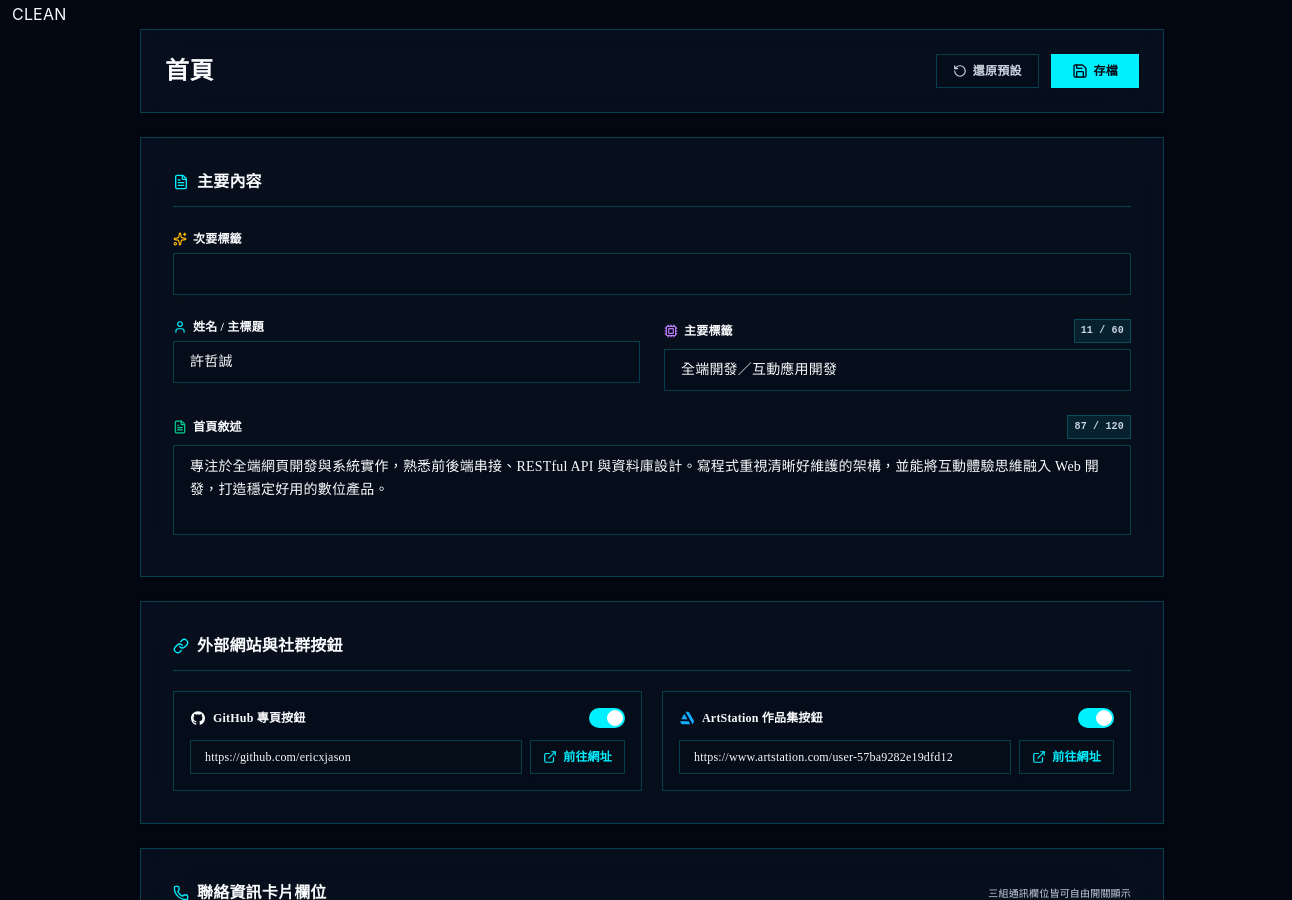
Test case: CMS 編輯器按鈕流程與 Firebase 存檔串接單元測試 › 修改欄位內容應觸發 DIRTY 髒污狀態
In the field below "次要標籤": (652, 274) 173,253 -> 1131,295, type "0912-345-678"
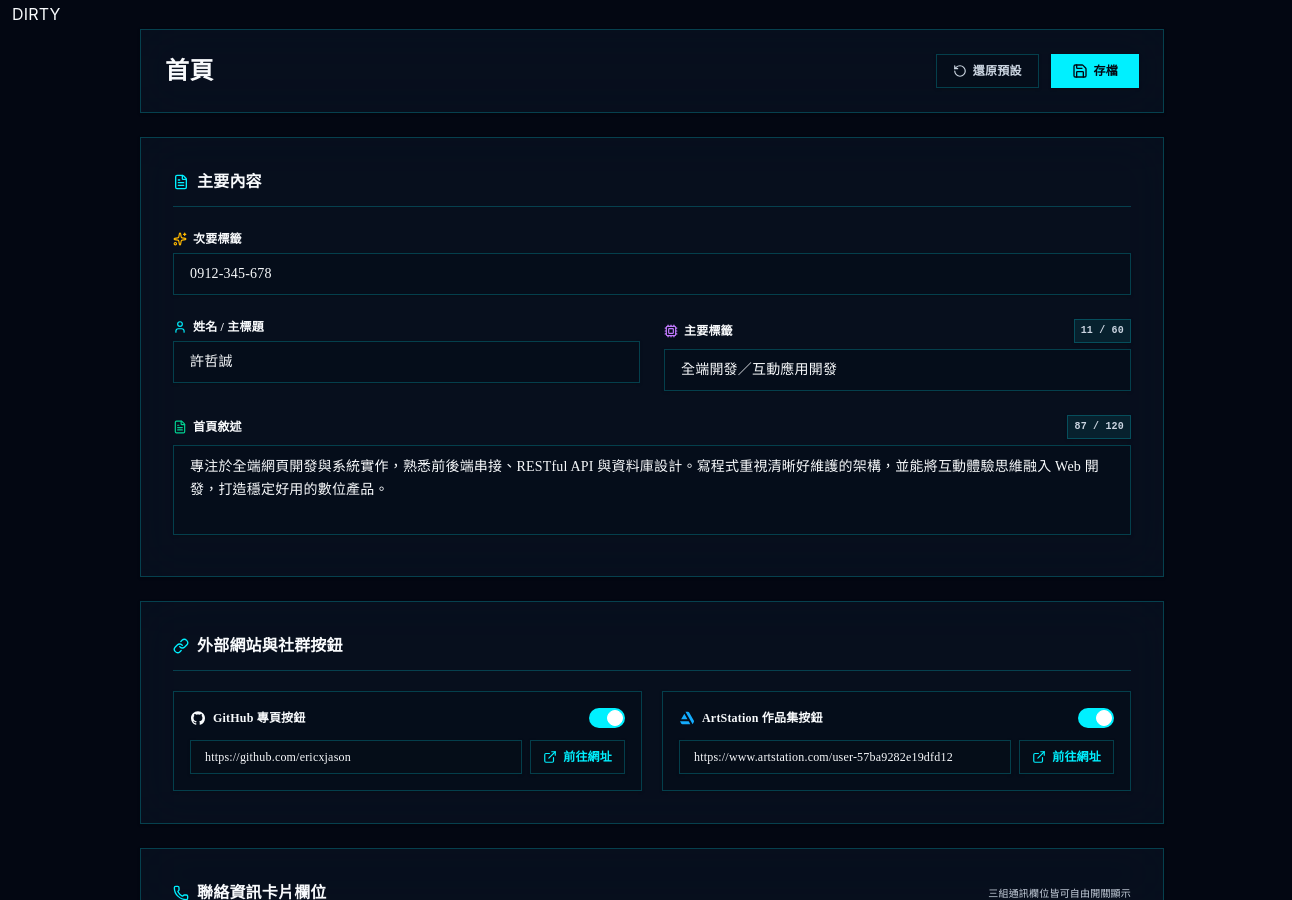
Result: the text with test id "dirty-indicator" reads "DIRTY" at 12,4 -> 61,24
